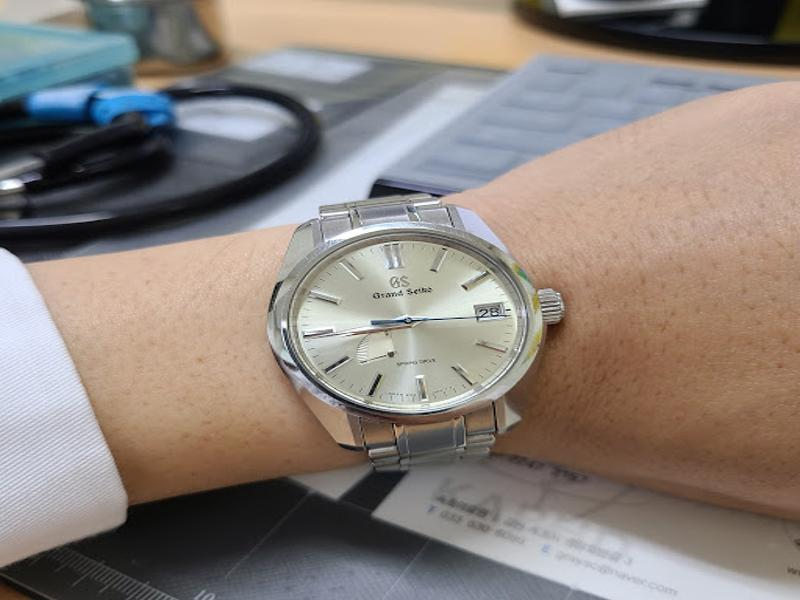watch: (267, 195, 569, 475)
